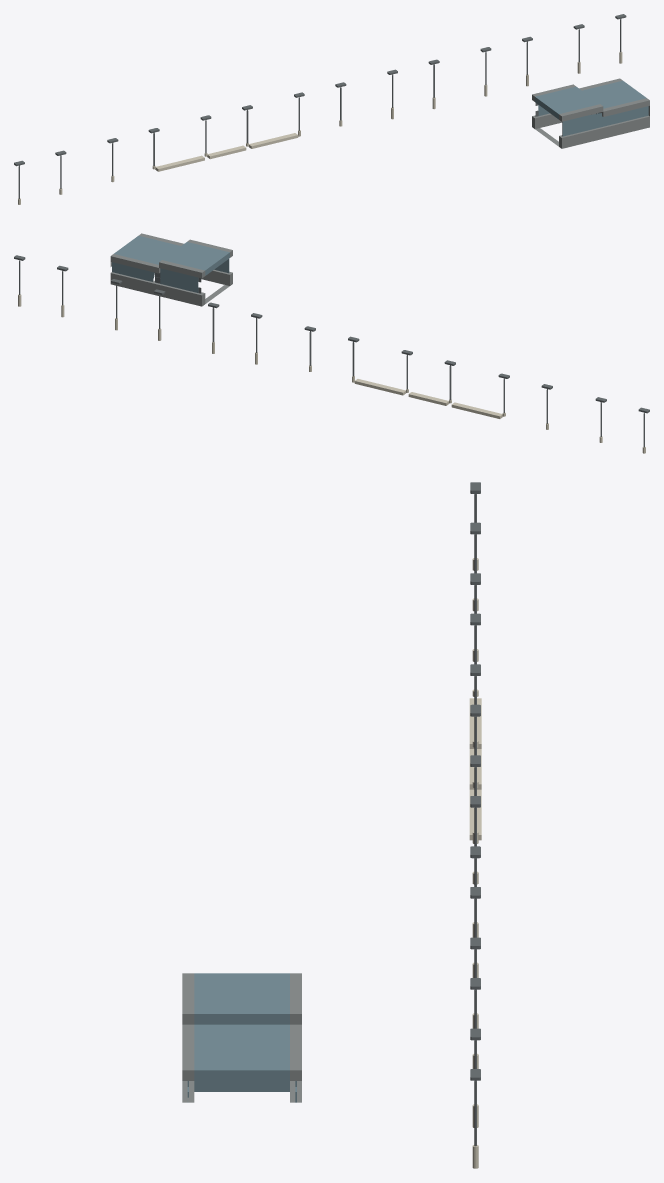
3 views of the same model, one above another, from view 1: azimuth 30°, elevation 25°; view 2: azimuth 150°, elevation 25°; view 3: azimuth 270°, elevation 25° (orthographic). The views are drawn at different scales.
Visible parts, largest first — view 1: buildings_s_-7_-5_Recessed_Blue_Glass, buildings_s_-7_-5_Standing_Seam_Roof, buildings_s_-7_-5_Dark_Metal, buildings_s_-7_-5_Warm_Limestone; view 2: buildings_s_-7_-5_Recessed_Blue_Glass, buildings_s_-7_-5_Standing_Seam_Roof, buildings_s_-7_-5_Dark_Metal, buildings_s_-7_-5_Warm_Limestone; view 3: buildings_s_-7_-5_Recessed_Blue_Glass, buildings_s_-7_-5_Dark_Metal, buildings_s_-7_-5_Standing_Seam_Roof, buildings_s_-7_-5_Warm_Limestone.
Part boxes in pixels (x1=…): buildings_s_-7_-5_Recessed_Blue_Glass: x1=535, y1=80, x2=648, y2=136; buildings_s_-7_-5_Standing_Seam_Roof: x1=532, y1=78, x2=649, y2=148; buildings_s_-7_-5_Dark_Metal: x1=14, y1=14, x2=626, y2=199; buildings_s_-7_-5_Warm_Limestone: x1=18, y1=51, x2=622, y2=204; buildings_s_-7_-5_Recessed_Blue_Glass: x1=112, y1=235, x2=229, y2=292; buildings_s_-7_-5_Standing_Seam_Roof: x1=110, y1=233, x2=232, y2=306; buildings_s_-7_-5_Dark_Metal: x1=14, y1=255, x2=649, y2=447; buildings_s_-7_-5_Warm_Limestone: x1=18, y1=294, x2=645, y2=453; buildings_s_-7_-5_Recessed_Blue_Glass: x1=187, y1=973, x2=296, y2=1102; buildings_s_-7_-5_Dark_Metal: x1=470, y1=482, x2=480, y2=1146; buildings_s_-7_-5_Standing_Seam_Roof: x1=182, y1=973, x2=301, y2=1102; buildings_s_-7_-5_Warm_Limestone: x1=469, y1=558, x2=481, y2=1168.
Size of the model in its own units: 118 by 8.68 by 25.
